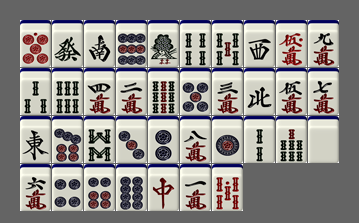0m: (276, 20, 307, 67)
0p: (20, 20, 51, 67)
0s: (212, 164, 243, 211)
1m: (180, 164, 211, 211)
1p: (212, 116, 243, 163)
1s: (148, 20, 179, 67)
1z: (20, 116, 51, 163)
2m: (116, 68, 147, 115)
2p: (148, 116, 179, 163)
2s: (244, 116, 275, 163)
2z: (84, 20, 115, 67)
3m: (212, 68, 243, 115)
3p: (116, 116, 147, 163)
3s: (20, 68, 51, 115)
3z: (244, 20, 275, 67)
4m: (84, 68, 115, 115)
4p: (52, 164, 83, 211)
4s: (180, 20, 211, 67)
4z: (244, 68, 275, 115)
5m: (276, 68, 307, 115)
5p: (180, 68, 211, 115)
5s: (212, 20, 243, 67)
5z: (308, 116, 339, 163)
6m: (20, 164, 51, 211)
6p: (84, 164, 115, 211)
6s: (52, 68, 83, 115)
6z: (52, 20, 83, 67)
7m: (308, 68, 339, 115)
7p: (52, 116, 83, 163)
7s: (276, 116, 307, 163)
7z: (148, 164, 179, 211)
8m: (180, 116, 211, 163)
8p: (116, 164, 147, 211)
8s: (84, 116, 115, 163)
9m: (308, 20, 339, 67)
9p: (116, 20, 147, 67)
9s: (148, 68, 179, 115)
